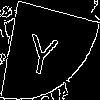Y: (24, 24, 61, 77)
